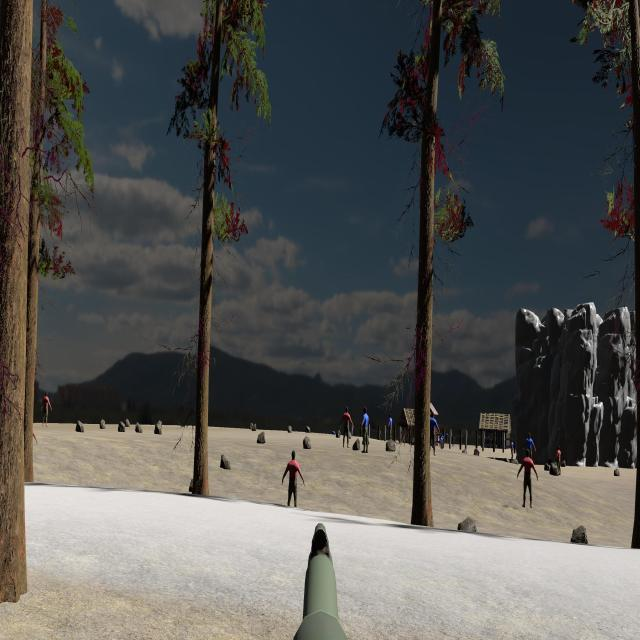Human: (282, 450, 305, 514), (517, 448, 538, 508), (339, 406, 354, 448), (361, 407, 371, 453)
